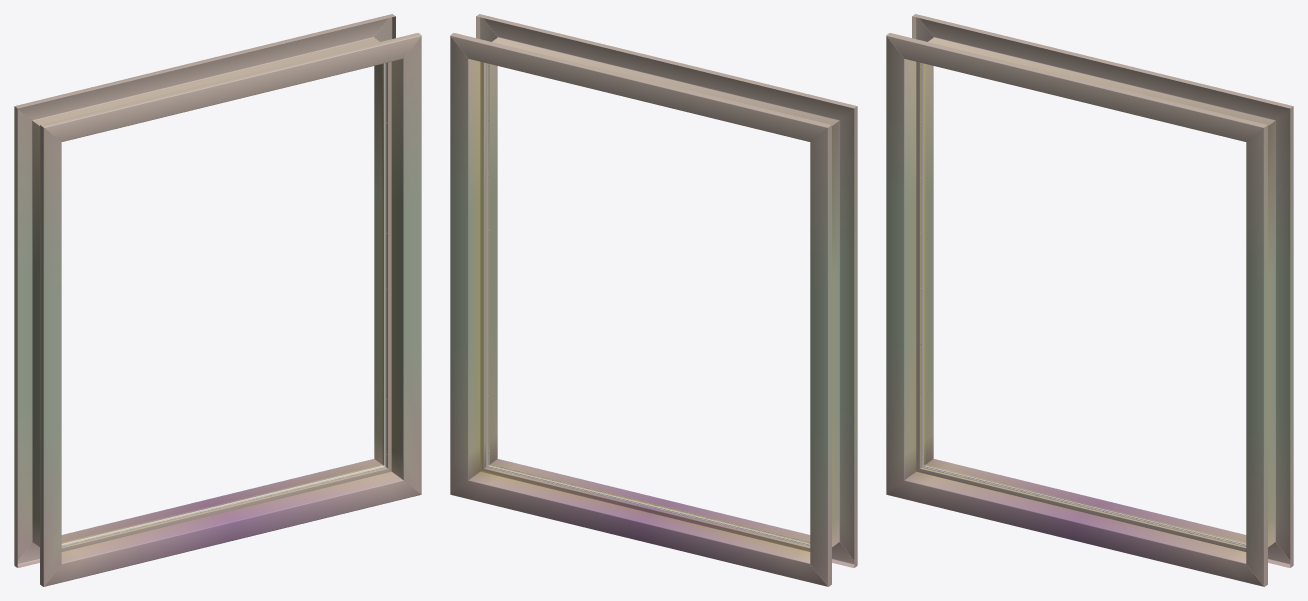
The model's file is Kit_WindowFrame_Steel_Enamel.fbx.
3 renders of one model, left to right at view 1: azimuth 30°, elevation 25°; view 2: azimuth 150°, elevation 25°; view 3: azimuth 330°, elevation 25°, orthographic.
Parts seen in each view (by area): view 1: Kit_WindowFrame_Steel_LOD0; view 2: Kit_WindowFrame_Steel_LOD0; view 3: Kit_WindowFrame_Steel_LOD0.
Boxes of the visible parts, bbox=[...] form: Kit_WindowFrame_Steel_LOD0: bbox=[14, 14, 421, 586]; Kit_WindowFrame_Steel_LOD0: bbox=[450, 14, 857, 586]; Kit_WindowFrame_Steel_LOD0: bbox=[886, 14, 1293, 586].
Size of what is drawn, in the model's own units: 1.55 by 1.8 by 0.21.
